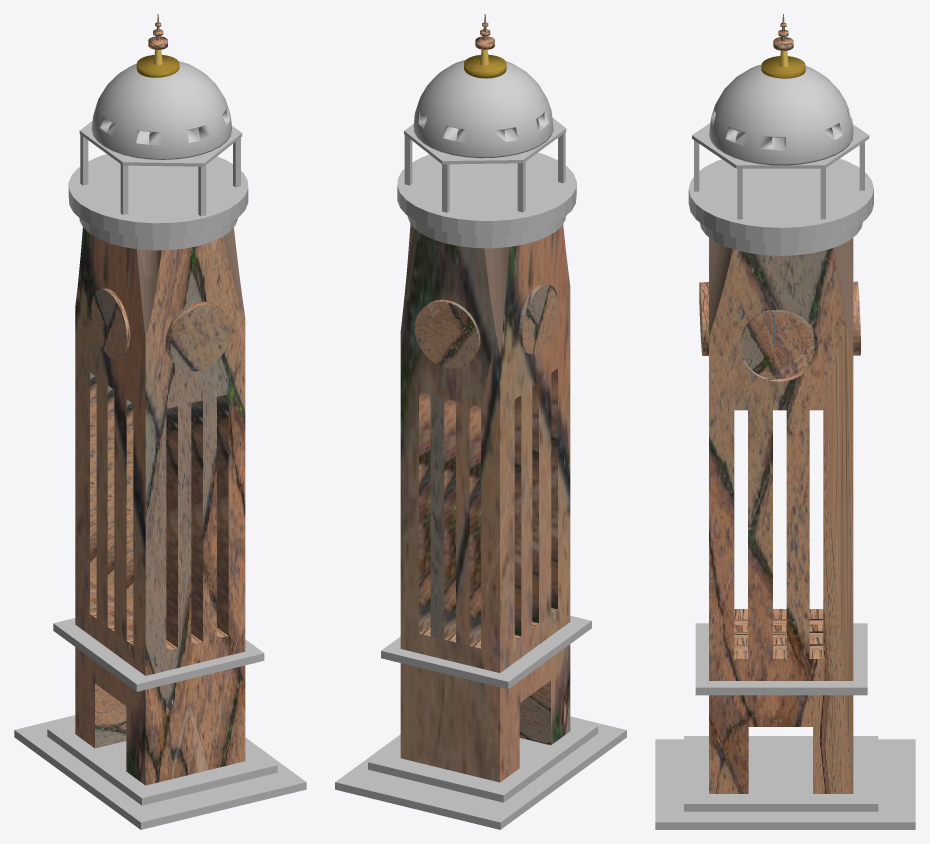
File: ghantaghar.obj
3 views of the same model, side by side, from view 1: azimuth 30°, elevation 25°; view 2: azimuth 150°, elevation 25°; view 3: azimuth 270°, elevation 25° (orthographic). The views are drawn at different scales.
Parts seen in each view (by area): view 1: Cube.103_Cube.105, Cylinder.001, Sphere.001, Cube.112_Cube.119, Cube.104_Cube.118, Cube.127, Cylinder.005, Cylinder.003_Cylinder.002, Cylinder, Circle_Circle.001, Cylinder.015; view 2: Cube.103_Cube.105, Cylinder.001, Sphere.001, Cube.112_Cube.119, Cube.104_Cube.118, Cube.127, Cylinder.004, Cylinder.003_Cylinder.002, Cylinder, Circle_Circle.001, Cylinder.015; view 3: Cube.103_Cube.105, Cylinder.001, Sphere.001, Cube.104_Cube.118, Cube.112_Cube.119, Cube.127, Cylinder.002_Cylinder.003, Cylinder, Circle_Circle.001, Cylinder.015, Cylinder.005, Cylinder.004.
Boxes of the visible parts, <box> form: Cube.103_Cube.105: <box>75,227,245,785</box>; Cylinder.001: <box>68,154,248,238</box>; Sphere.001: <box>91,61,231,159</box>; Cube.112_Cube.119: <box>14,715,306,829</box>; Cube.104_Cube.118: <box>47,722,277,805</box>; Cube.127: <box>53,618,264,691</box>; Cylinder.005: <box>165,301,230,371</box>; Cylinder.003_Cylinder.002: <box>91,288,130,359</box>; Cylinder: <box>79,218,237,250</box>; Circle_Circle.001: <box>79,120,242,166</box>; Cylinder.015: <box>136,55,179,77</box>; Cube.103_Cube.105: <box>400,224,570,782</box>; Cylinder.001: <box>397,152,576,235</box>; Sphere.001: <box>413,60,553,158</box>; Cube.112_Cube.119: <box>335,716,626,829</box>; Cube.104_Cube.118: <box>368,719,597,802</box>; Cube.127: <box>381,615,591,689</box>; Cylinder.004: <box>414,299,480,368</box>; Cylinder.003_Cylinder.002: <box>519,283,558,354</box>; Cylinder: <box>407,216,565,248</box>; Circle_Circle.001: <box>404,117,566,164</box>; Cylinder.015: <box>464,54,506,78</box>; Cube.103_Cube.105: <box>709,237,853,793</box>; Cylinder.001: <box>688,159,873,243</box>; Sphere.001: <box>709,64,853,165</box>; Cube.104_Cube.118: <box>684,736,878,811</box>; Cube.112_Cube.119: <box>655,739,915,829</box>; Cube.127: <box>695,623,867,695</box>; Cylinder.002_Cylinder.003: <box>740,309,814,379</box>; Cylinder: <box>700,222,862,255</box>; Circle_Circle.001: <box>692,123,869,168</box>; Cylinder.015: <box>761,56,805,78</box>; Cylinder.005: <box>699,282,708,355</box>; Cylinder.004: <box>853,281,860,355</box>.
Size of the model in its own units: 15.78 by 68.35 by 20.88.
